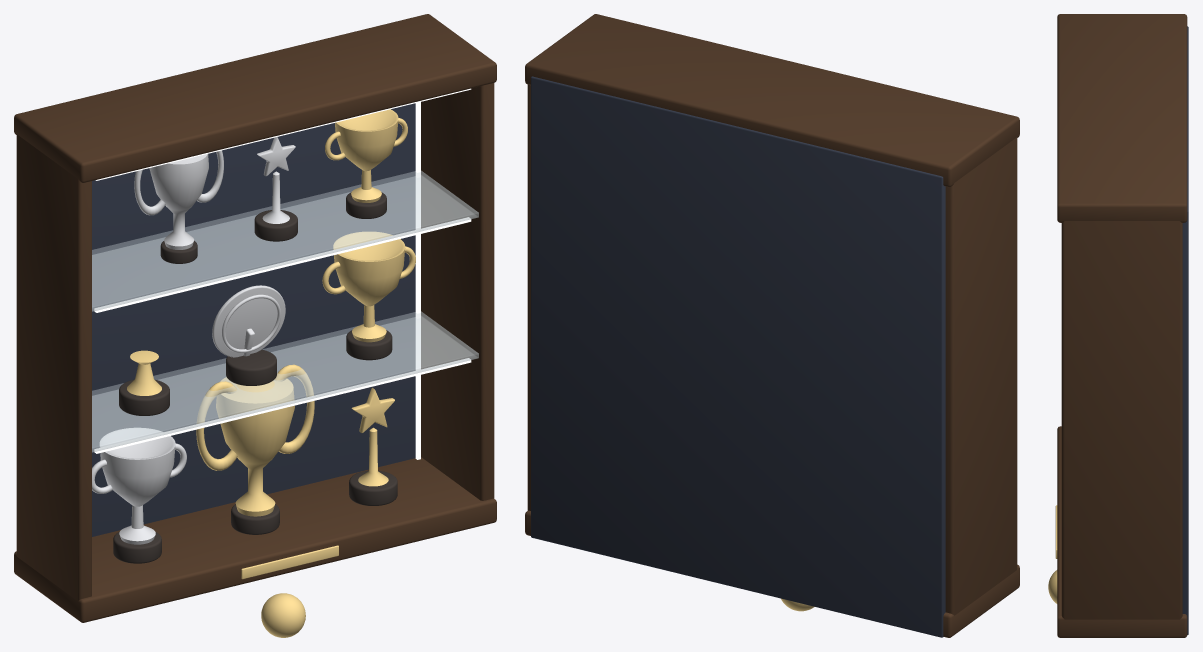
Rendered from reward-trophy-wall.glb.
The picture shows the model from 3 angles, left to right: view 1: azimuth 30°, elevation 25°; view 2: azimuth 150°, elevation 25°; view 3: azimuth 270°, elevation 25°; orthographic projection. The views are drawn at different scales.
Parts seen in each view (by area): view 1: back, top.001, side, side.001, bottom, shelf.001, shelf, big, cup, cup.001, cup.002, plate (+22 smaller); view 2: back, top.001, side, side.001, bottom; view 3: side.001, top.001, bottom, back, sph.
Part boxes in pixels (x1,y1,x2,y2): back: (92,103,415,536); top.001: (14,14,496,182); side: (16,134,91,619); side.001: (421,83,494,500); bottom: (14,457,496,622); shelf.001: (92,170,478,311); shelf: (92,311,478,452); big: (216,377,294,516); cup: (100,428,175,544); cup.001: (333,232,405,342); cup.002: (335,109,398,202); plate: (212,285,285,357); back: (531,76,945,637); top.001: (525,14,1019,187); side: (945,137,1017,634); side.001: (527,84,530,510); bottom: (525,510,1019,637); side.001: (1061,221,1182,637); top.001: (1057,14,1187,222); bottom: (1057,426,1187,637); back: (1182,26,1188,635); sph: (1048,570,1057,603).
Bounding box in the file's own units: 3 × 3.63 × 0.9299.
